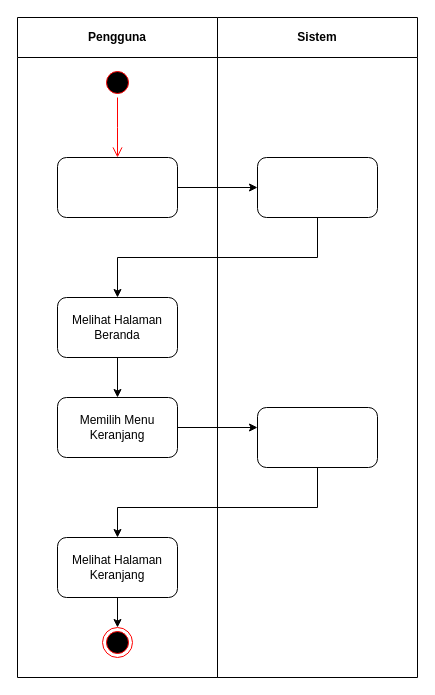
The diagram is 435 pixels wide and 695 high, and some of its shapes have lost their labels. The centre of each missing label's shape, as x and y in pixels:
Membuka Website: point (117, 187)
Menampiilkan Halaman Keranjang: point (317, 437)
Menampilkan Halaman Beranda: point (317, 187)
